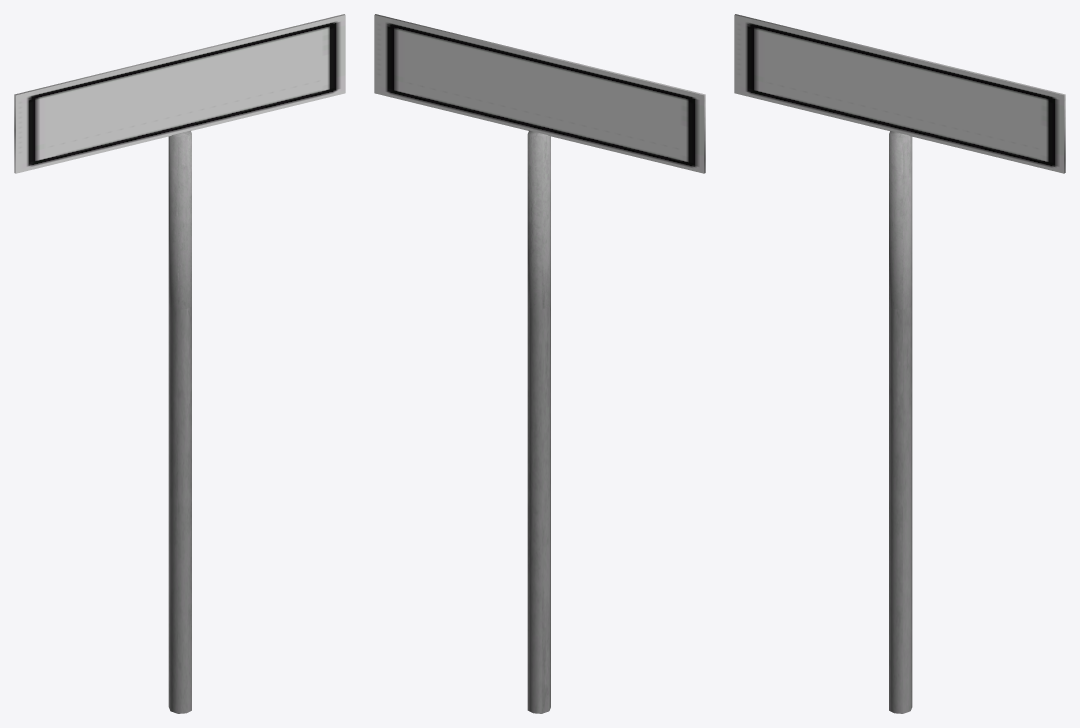
Rendered from GateSkilt.glb.
3 views of the same model, side by side, from view 1: azimuth 30°, elevation 25°; view 2: azimuth 150°, elevation 25°; view 3: azimuth 330°, elevation 25° (orthographic).
Parts seen in each view (by area): view 1: GateSkilt; view 2: GateSkilt; view 3: GateSkilt.
Boxes of the visible parts, x1,y1,x2,y2 form: GateSkilt: [14, 14, 345, 713]; GateSkilt: [374, 14, 705, 713]; GateSkilt: [734, 14, 1065, 713].
Bounding box in the file's own units: 10.13 × 19.2 × 0.6518.
1 material, 1 textured.
